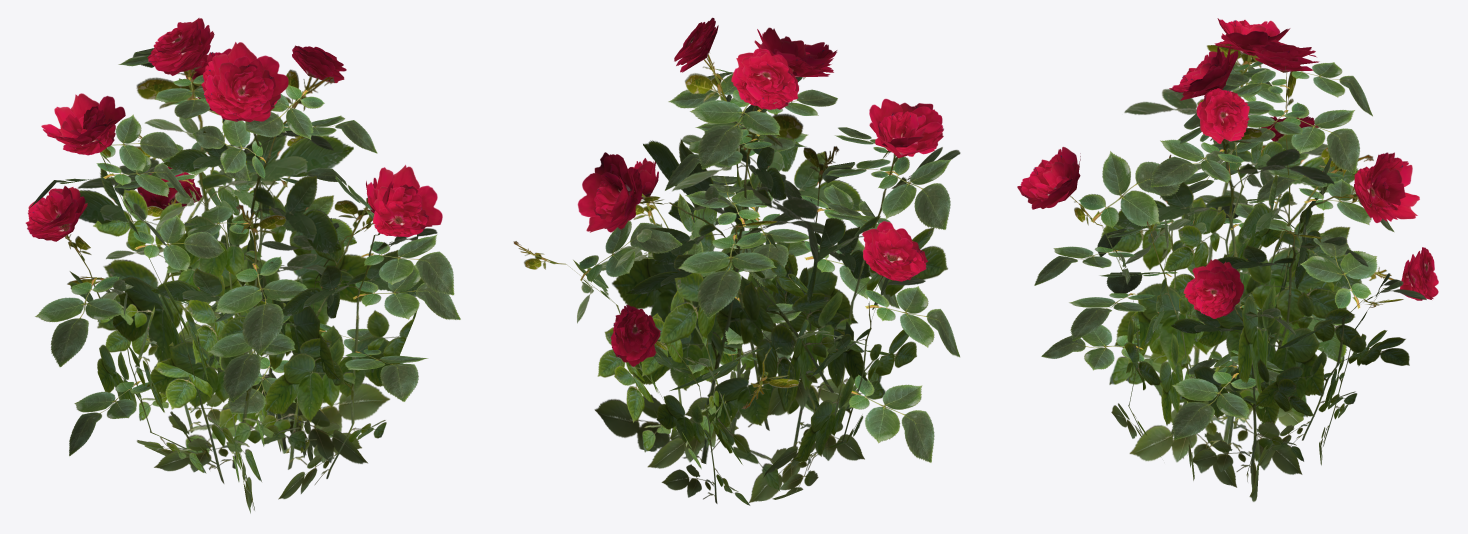
File: rose_flower.glb
3 renders of one model, left to right at view 1: azimuth 30°, elevation 25°; view 2: azimuth 150°, elevation 25°; view 3: azimuth 270°, elevation 25°, orthographic. The views are drawn at different scales.
Visible parts, largest first — view 1: SM_Rosaceae; view 2: SM_Rosaceae; view 3: SM_Rosaceae.
Boxes of the visible parts, x1,y1,x2,y2 form: SM_Rosaceae: (25, 18, 460, 513); SM_Rosaceae: (513, 17, 960, 505); SM_Rosaceae: (1017, 18, 1438, 501).
Size of the model in its own units: 2.23 by 2.65 by 2.39.
1 material, 1 textured.
